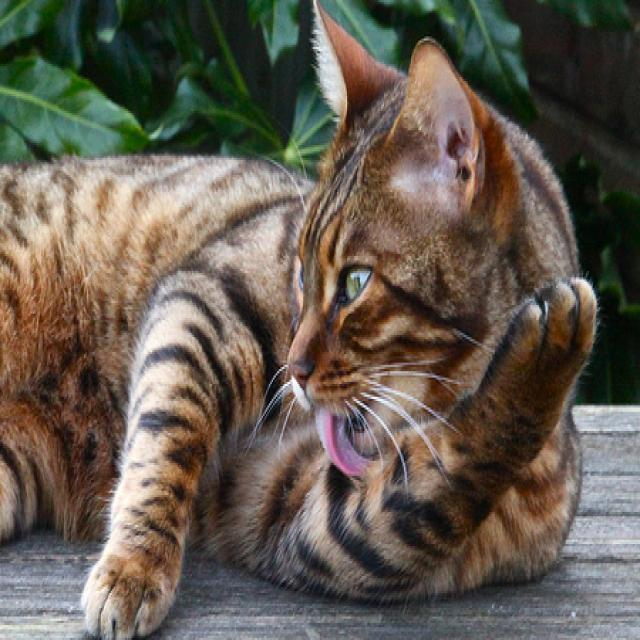Bengal: (0, 0, 601, 631)
